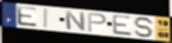E: (16, 5, 39, 28), (112, 15, 134, 37)
I: (43, 8, 49, 29)
N: (64, 10, 87, 32)
P: (87, 12, 108, 33)
S: (133, 16, 156, 39)
